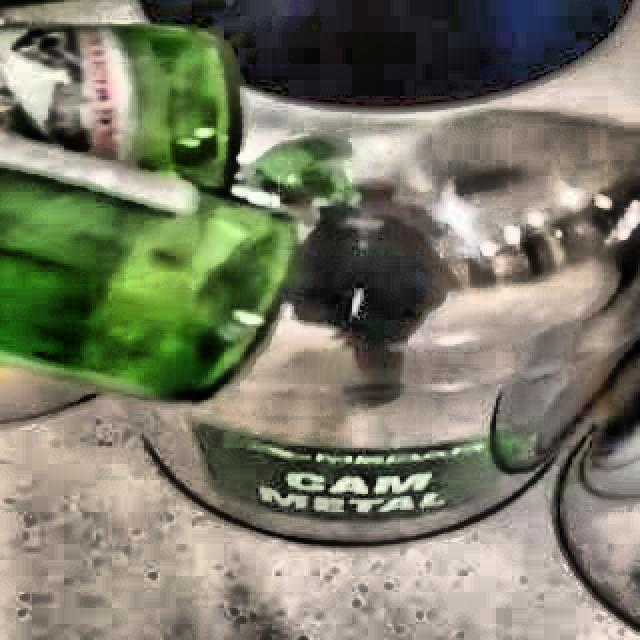glass: (0, 22, 299, 401)
